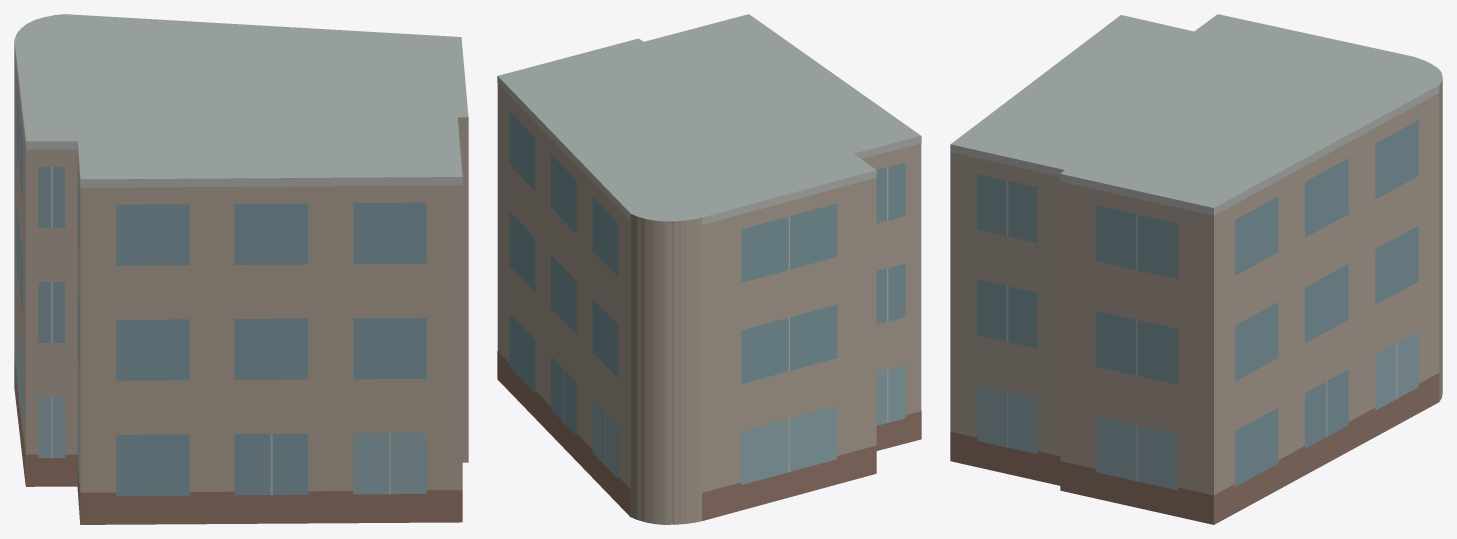
The model's file is survey-upis-32658237.glb.
3 views of the same model, side by side, from view 1: azimuth 30°, elevation 25°; view 2: azimuth 150°, elevation 25°; view 3: azimuth 270°, elevation 25° (orthographic). The views are drawn at different scales.
Parts seen in each view (by area): view 1: survey-upis-32658237.tmp; view 2: survey-upis-32658237.tmp; view 3: survey-upis-32658237.tmp.
Boxes of the visible parts, x1=… form: survey-upis-32658237.tmp: x1=14, y1=14, x2=468, y2=524; survey-upis-32658237.tmp: x1=497, y1=14, x2=921, y2=524; survey-upis-32658237.tmp: x1=950, y1=14, x2=1442, y2=524.
Bounding box in the file's own units: 13.15 × 10 × 14.09.
